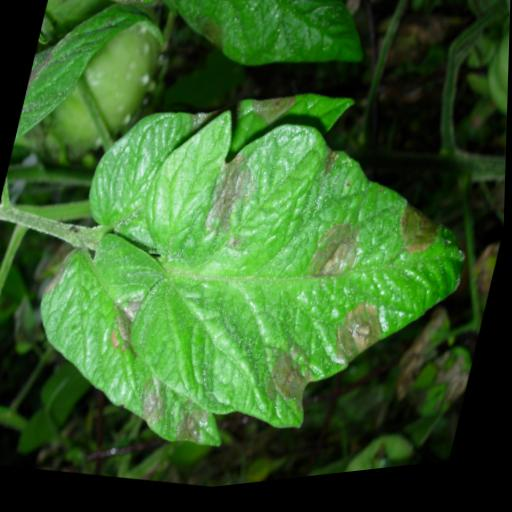Late Blight: (100, 82, 499, 484), (11, 211, 267, 471)
